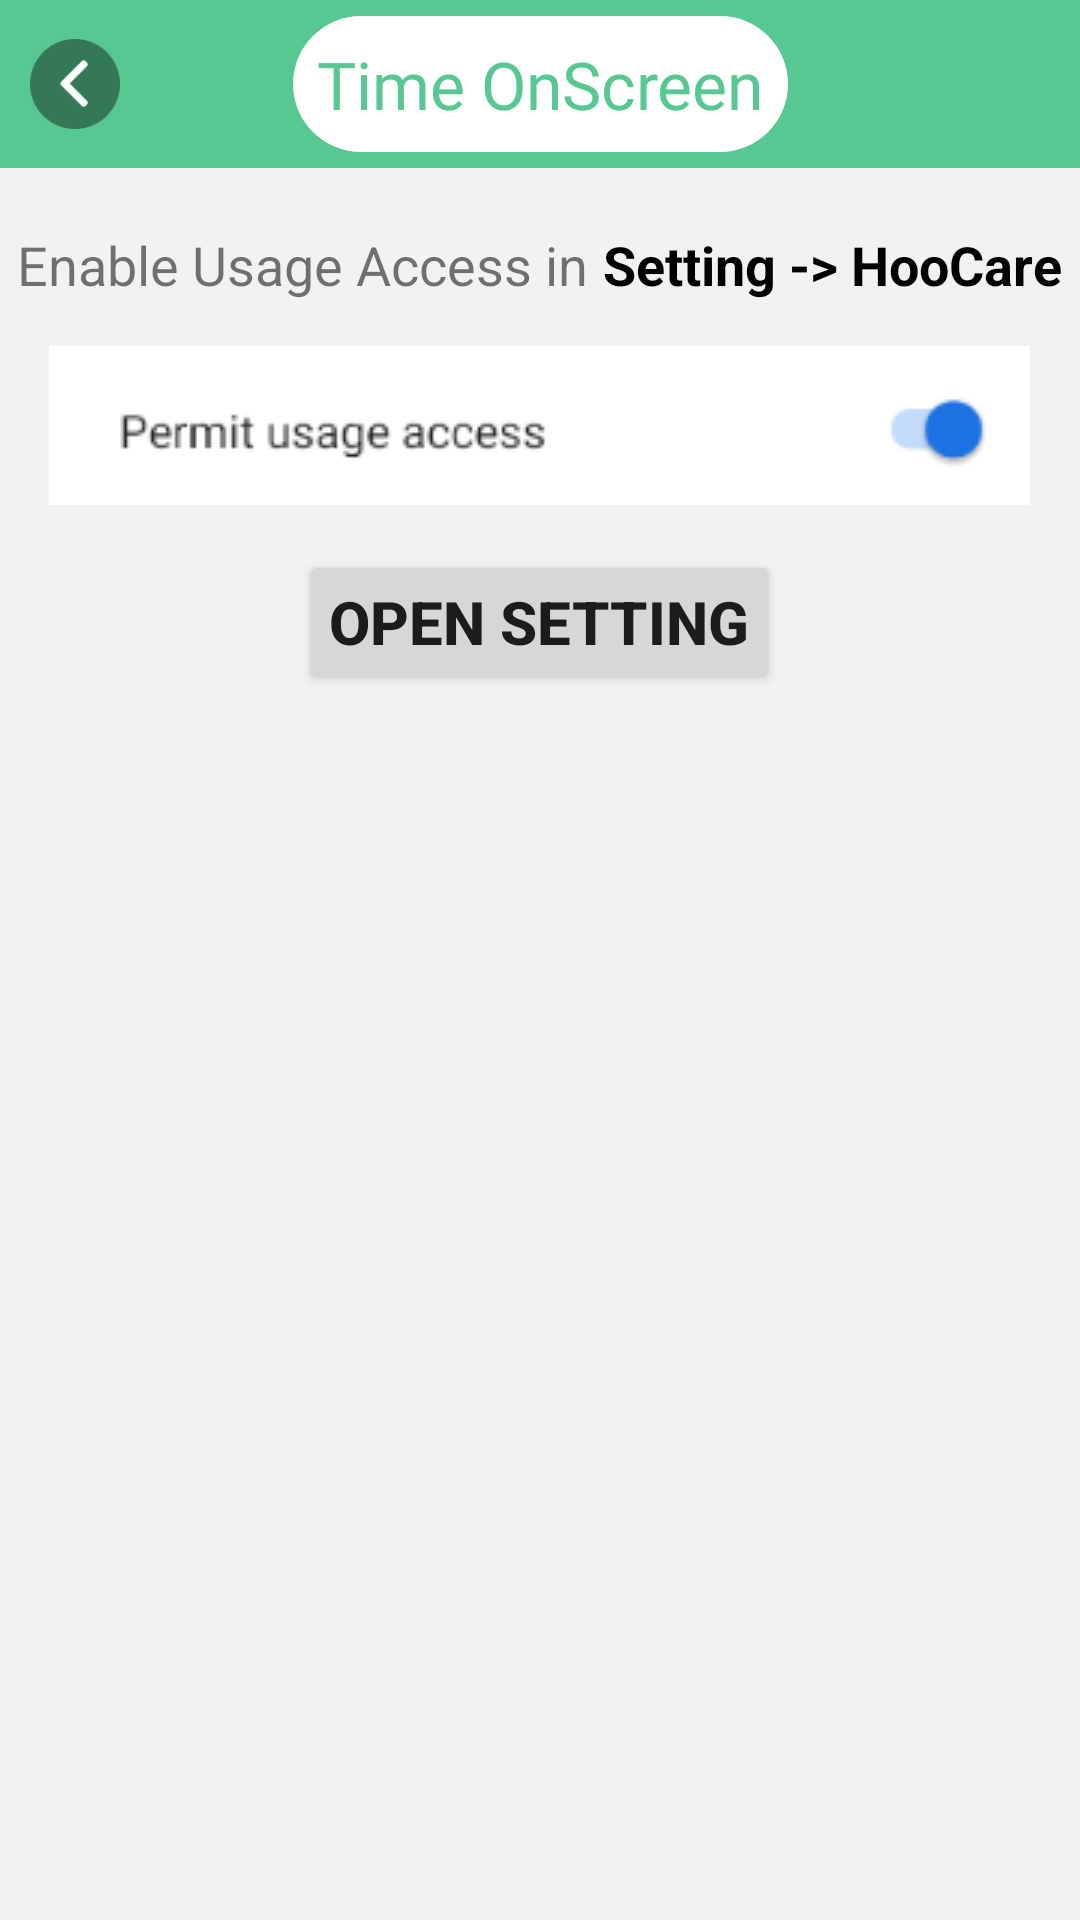

Icons on this 1080×1920 Android screen, each with the point to tap as [x,y]:
back button: [75,84]
